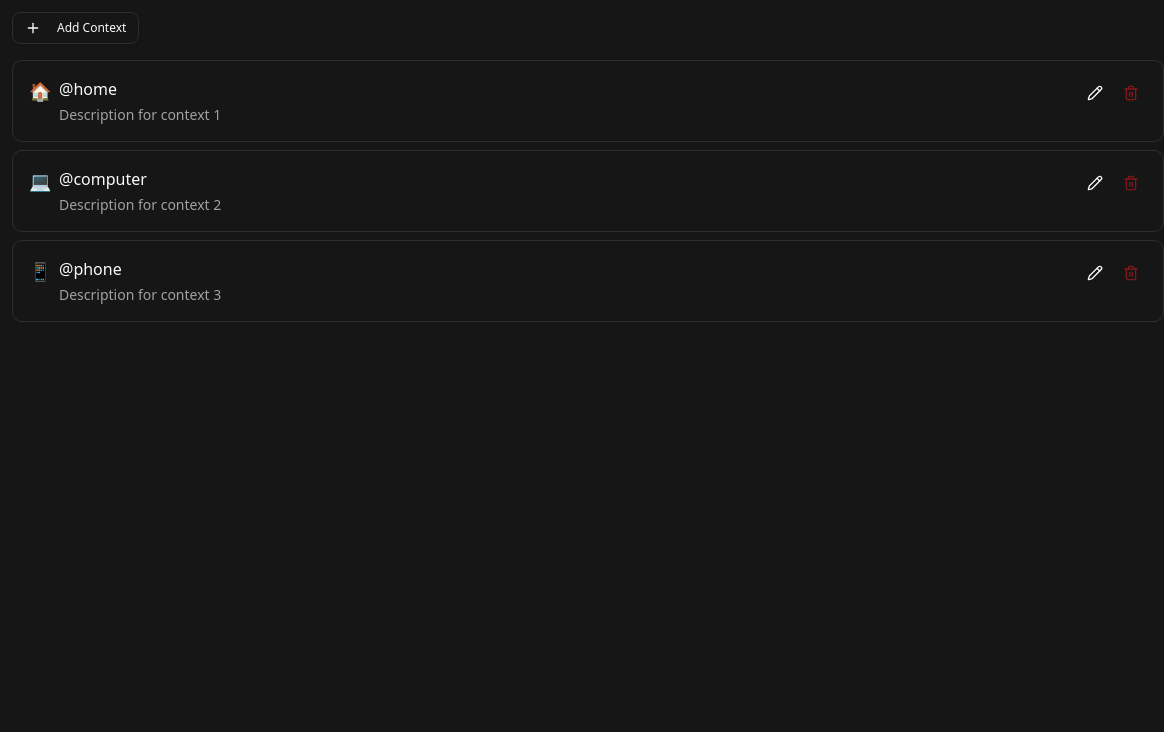
ContextManager › creating contexts › shows form when Add Context button is clicked
What coordinates should you click on to do the following:
click the button "Add Context"
I would click on:
 (76, 28)
Its box is [12,12,139,44].
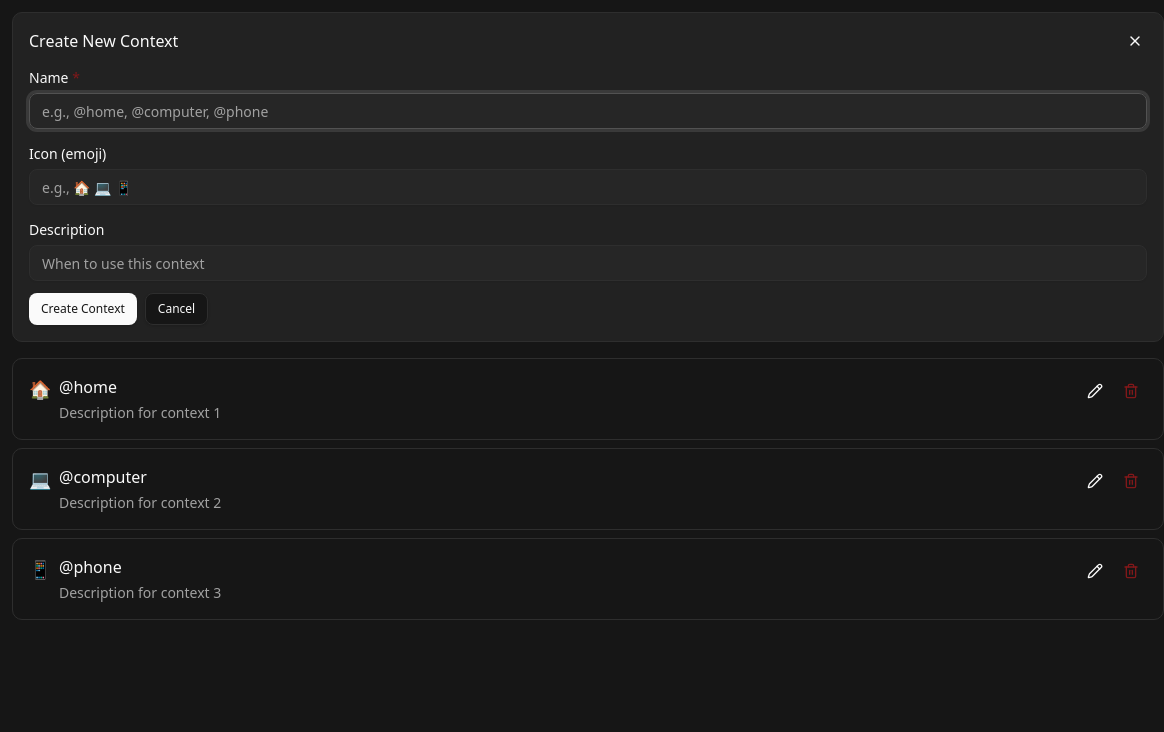
Expected: the heading "Create New Context" is shown, [29,29,178,53]
Expected: the field labelled "Name *" is shown, [29,93,1147,129]
